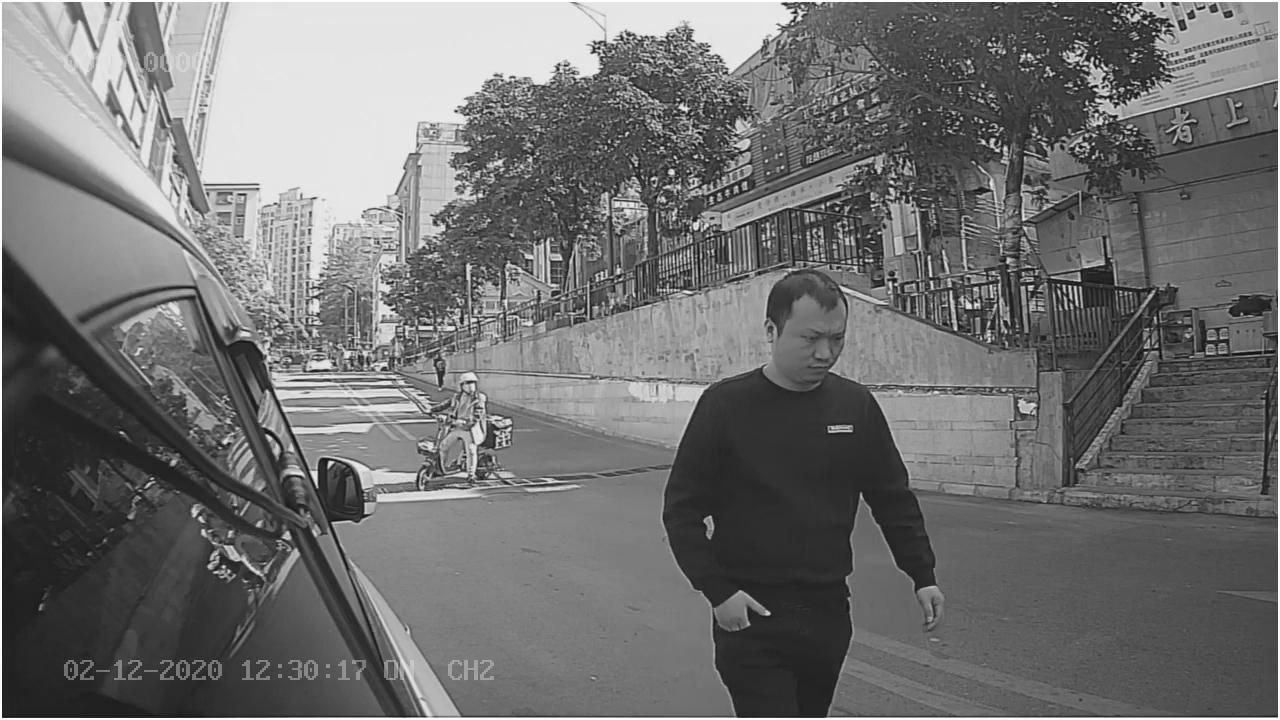person: (661, 257, 942, 637)
